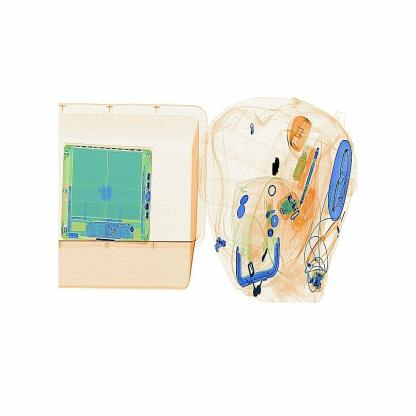knife: (271, 149, 288, 188)
